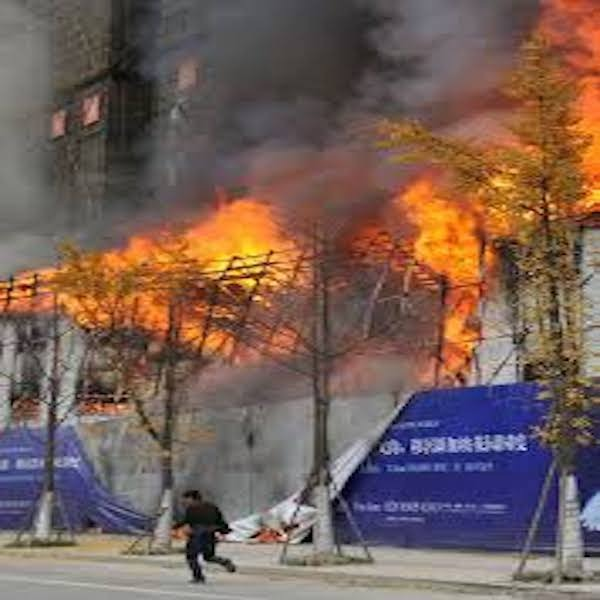fire: (177, 135, 309, 255), (381, 165, 493, 280), (7, 211, 159, 281)
